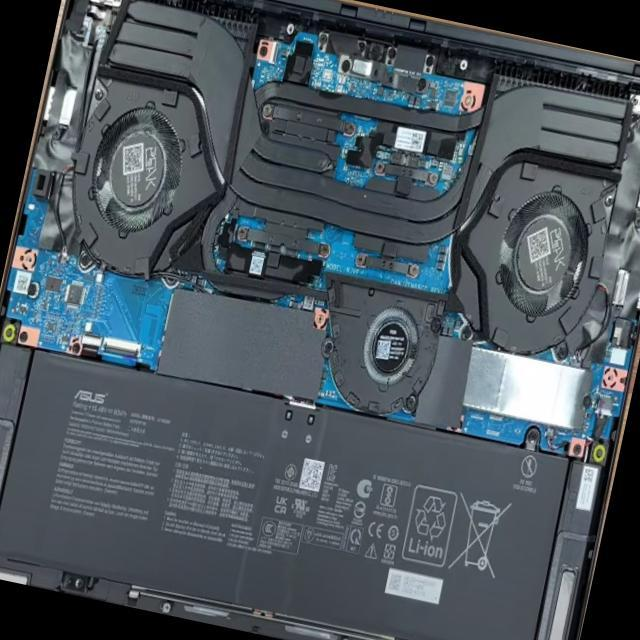RAM: (18, 363, 556, 637)
SSD: (18, 330, 30, 344), (26, 283, 36, 295), (70, 344, 80, 354)
